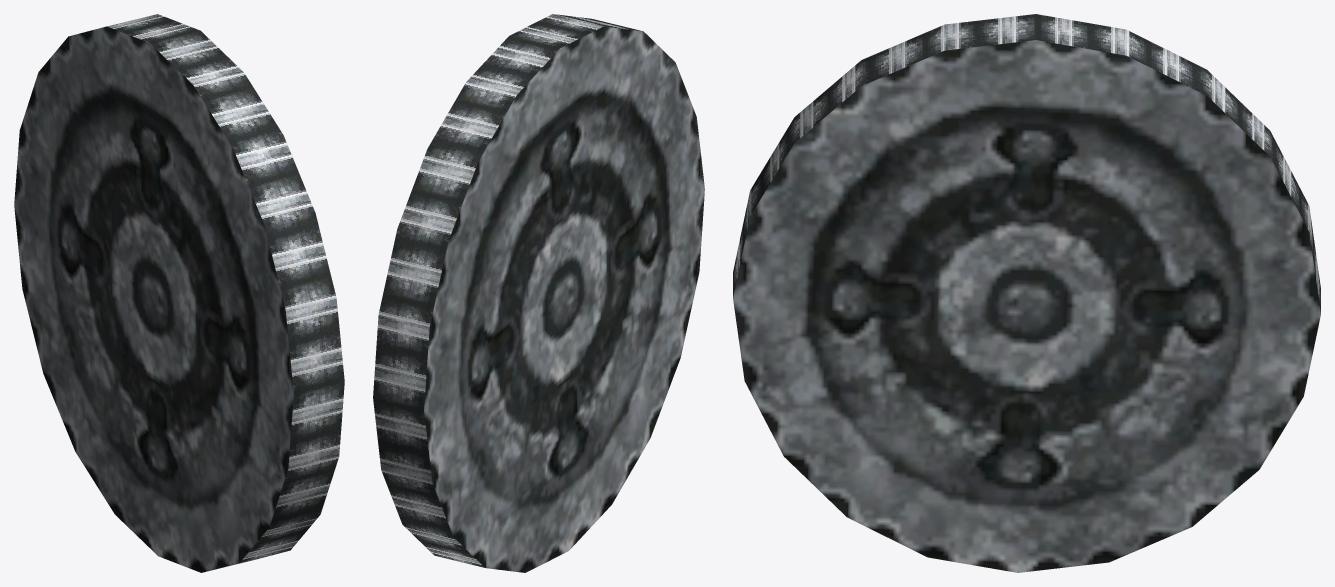
File: INST_PUZZLE_PIECE2_PIECE2_SILVER.obj
The picture shows the model from 3 angles, left to right: view 1: azimuth 30°, elevation 25°; view 2: azimuth 150°, elevation 25°; view 3: azimuth 270°, elevation 25°; orthographic projection. The views are drawn at different scales.
Visible parts, largest first — view 1: Piece2_Silver; view 2: Piece2_Silver; view 3: Piece2_Silver.
Part boxes in pixels (<box>): Piece2_Silver: <box>14,14,344,572</box>; Piece2_Silver: <box>373,14,704,572</box>; Piece2_Silver: <box>733,14,1320,572</box>.
Size of the model in its own units: 4.88 by 46.48 by 46.48.
